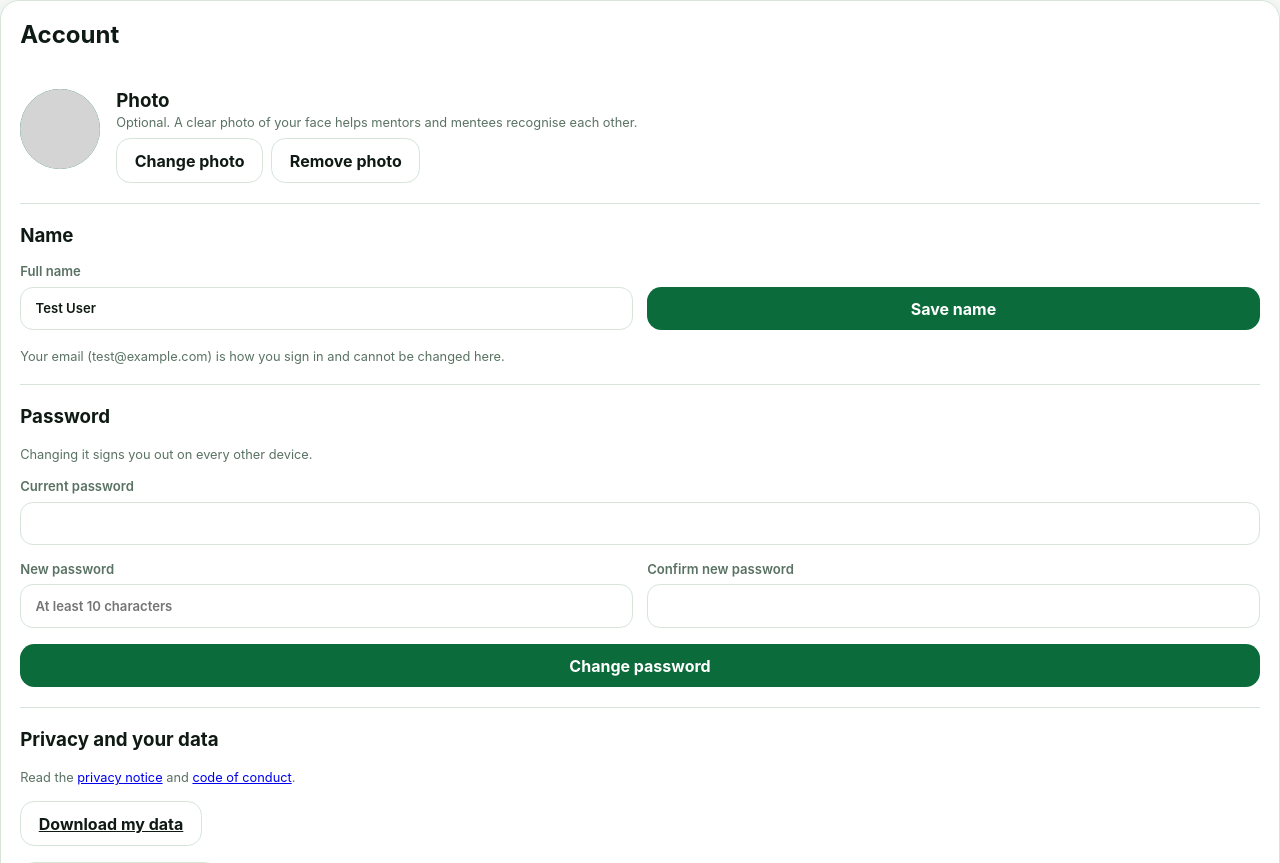
it: AccountSettings › offers removal only when there is a photo
This screenshot has width=1280, height=863.
Click the button "Remove photo". click: (346, 161)
box: [271,138,420,183]
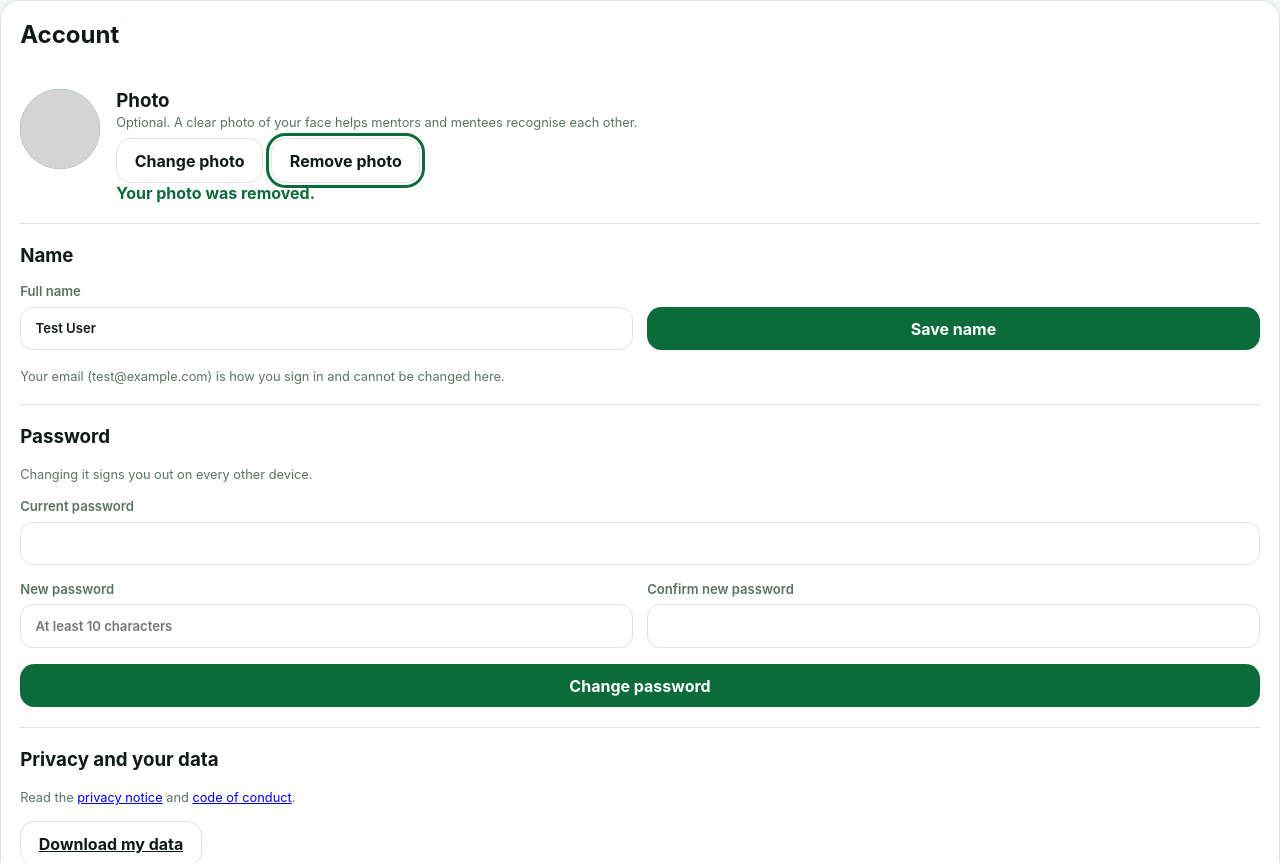
Expected: the text "Your photo was removed." is shown, [116,183,315,203]
